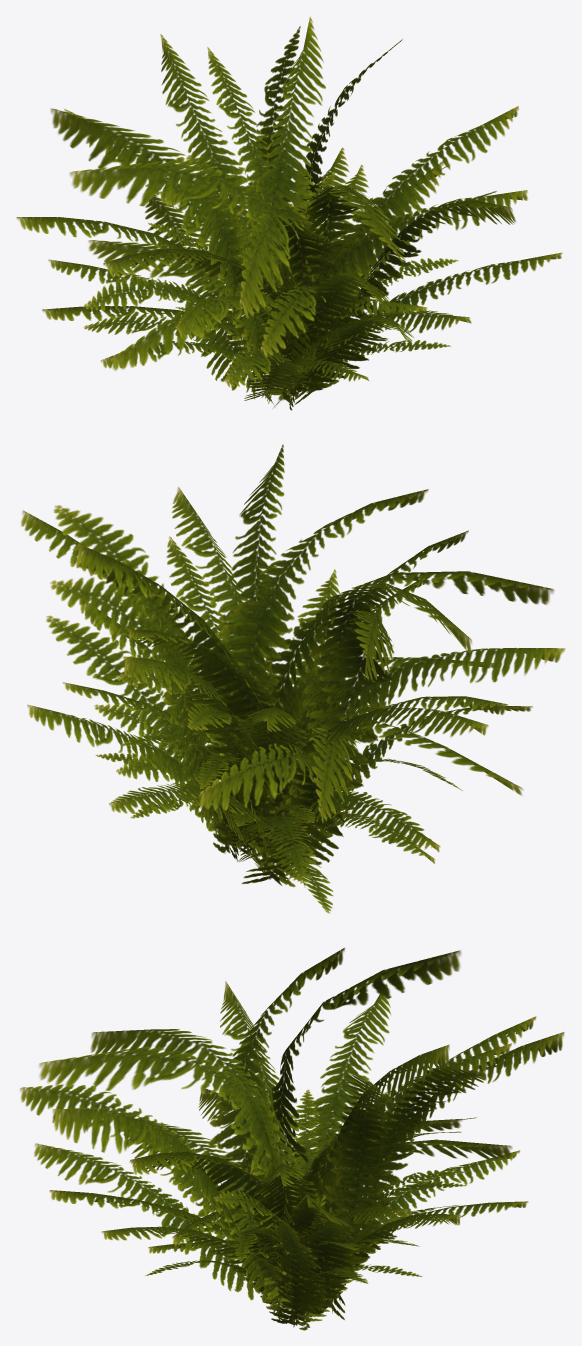
File: n_farn.glb
The picture shows the model from 3 angles, top to bottom: view 1: azimuth 30°, elevation 25°; view 2: azimuth 150°, elevation 25°; view 3: azimuth 270°, elevation 25°; orthographic projection. The views are drawn at different scales.
Parts seen in each view (by area): view 1: pasted__group11_polySurface51; view 2: pasted__group11_polySurface51; view 3: pasted__group11_polySurface51.
Part boxes in pixels (x1,y1,x2,y2): pasted__group11_polySurface51: (16, 16, 562, 410); pasted__group11_polySurface51: (21, 444, 565, 913); pasted__group11_polySurface51: (20, 947, 564, 1330).
Bounding box in the file's own units: 31.31 × 20.63 × 31.17.
Materials: 1 (1 with a texture image).
